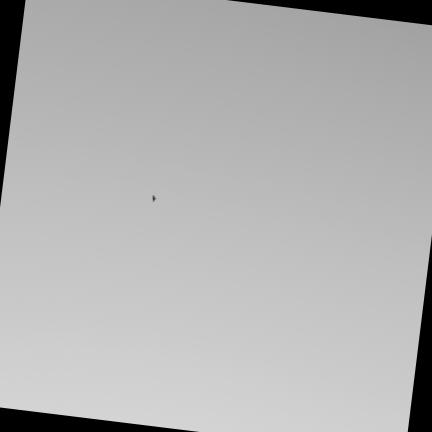Shahed: (152, 195, 154, 201)
